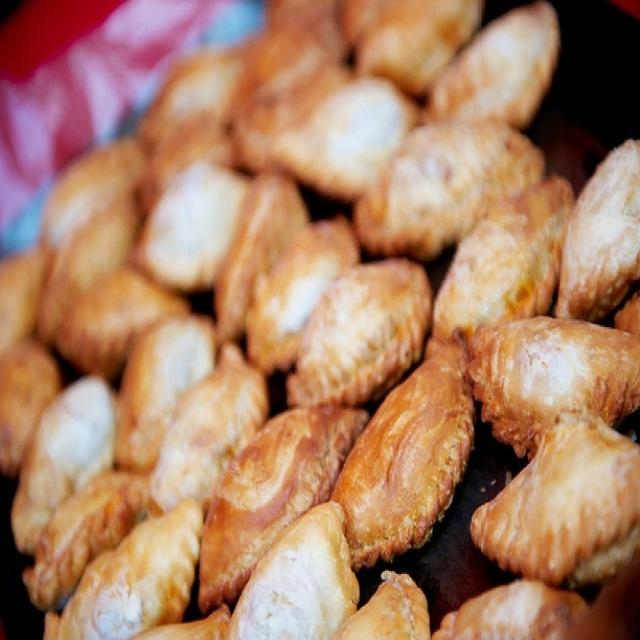炸货点心: (32, 36, 626, 637)
